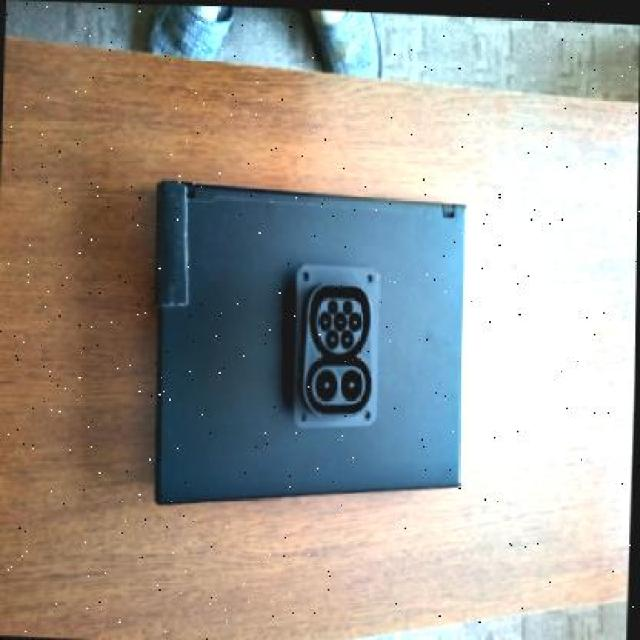CCS2: (293, 258, 387, 443)
